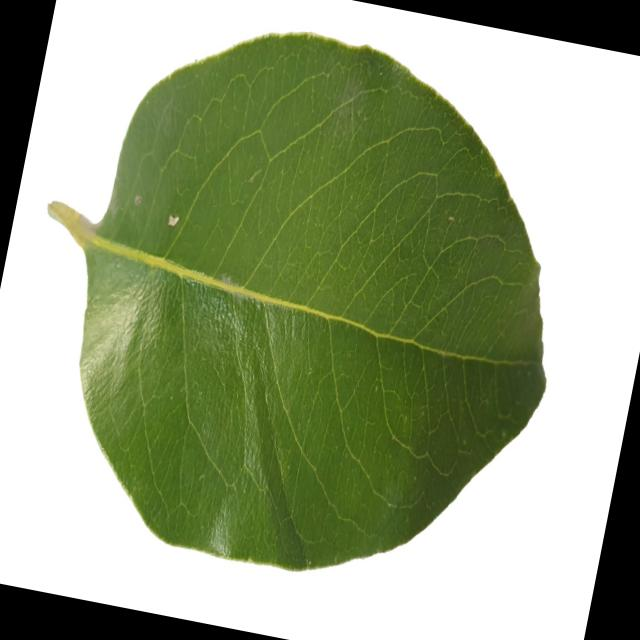Medicinal-Sandalwood: (0, 0, 605, 615)
